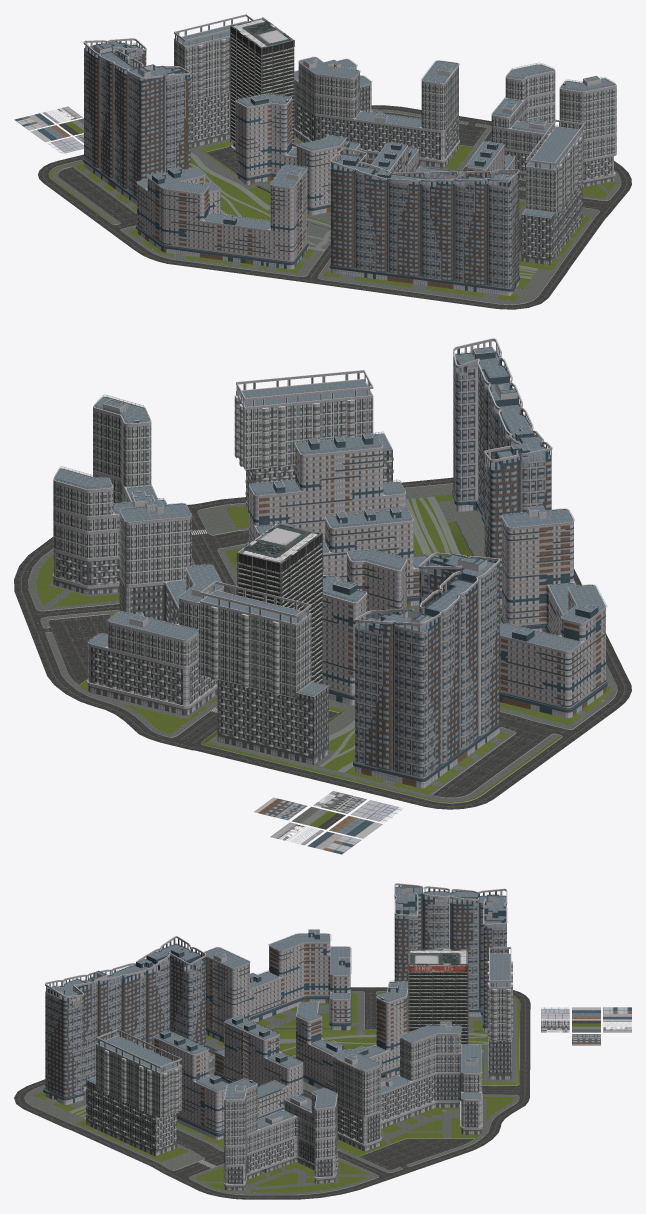
Rendered from mapa_edificio.gltf.
The picture shows the model from 3 angles, top to bottom: view 1: azimuth 30°, elevation 25°; view 2: azimuth 150°, elevation 25°; view 3: azimuth 270°, elevation 25°; orthographic projection. The views are drawn at different scales.
Visible parts, largest first — view 1: Cube_002_7_0, Cube_192, Plane_048, terrain, Plane_056, Plane_057, roads, Plane_036, Cube_009_4_0, Cube, Cube_002, Cube_002_2_0 (+10 smaller); view 2: Cube_192, Plane_056, terrain, Plane_048, Cube, roads, Plane_001, Plane_057, Cube_002_7_0, Cube_009_4_0, Plane_036, Plane_061 (+9 smaller); view 3: terrain, Plane_056, Cube_002_7_0, Plane_048, Plane_001, Plane_057, roads, Cube_192, Cube_009_4_0, Plane_036, Cube, Cube_002 (+10 smaller).
Part boxes in pixels (<box>): Cube_002_7_0: <box>330,164,519,288</box>; Cube_192: <box>82,38,190,204</box>; Plane_048: <box>136,164,308,269</box>; terrain: <box>49,109,620,304</box>; Plane_056: <box>294,56,459,167</box>; Plane_057: <box>491,62,616,186</box>; roads: <box>38,105,631,309</box>; Plane_036: <box>235,92,360,215</box>; Cube_009_4_0: <box>520,122,584,264</box>; Cube: <box>174,14,253,147</box>; Cube_002: <box>230,17,294,151</box>; Cube_002_2_0: <box>330,147,519,292</box>; Cube_192: <box>353,552,500,788</box>; Plane_056: <box>87,500,224,715</box>; terrain: <box>28,483,617,802</box>; Plane_048: <box>499,505,607,718</box>; Cube: <box>198,581,328,764</box>; roads: <box>14,477,631,809</box>; Plane_001: <box>246,432,428,606</box>; Plane_057: <box>52,394,166,594</box>; Cube_002_7_0: <box>453,359,551,592</box>; Cube_009_4_0: <box>234,373,393,512</box>; Plane_036: <box>323,547,406,705</box>; Plane_061: <box>254,791,403,854</box>; terrain: <box>24,991,519,1194</box>; Plane_056: <box>332,1021,482,1150</box>; Cube_002_7_0: <box>45,957,205,1097</box>; Plane_048: <box>202,929,351,1042</box>; Plane_001: <box>153,1014,303,1139</box>; Plane_057: <box>223,1077,338,1190</box>; roads: <box>14,987,530,1199</box>; Cube_192: <box>394,883,507,1032</box>; Cube_009_4_0: <box>86,1032,181,1156</box>; Plane_036: <box>296,979,407,1090</box>; Cube: <box>487,947,512,1079</box>; Cube_002: <box>408,948,468,1044</box>.
Size of the model in its own units: 801 by 235 by 987.
